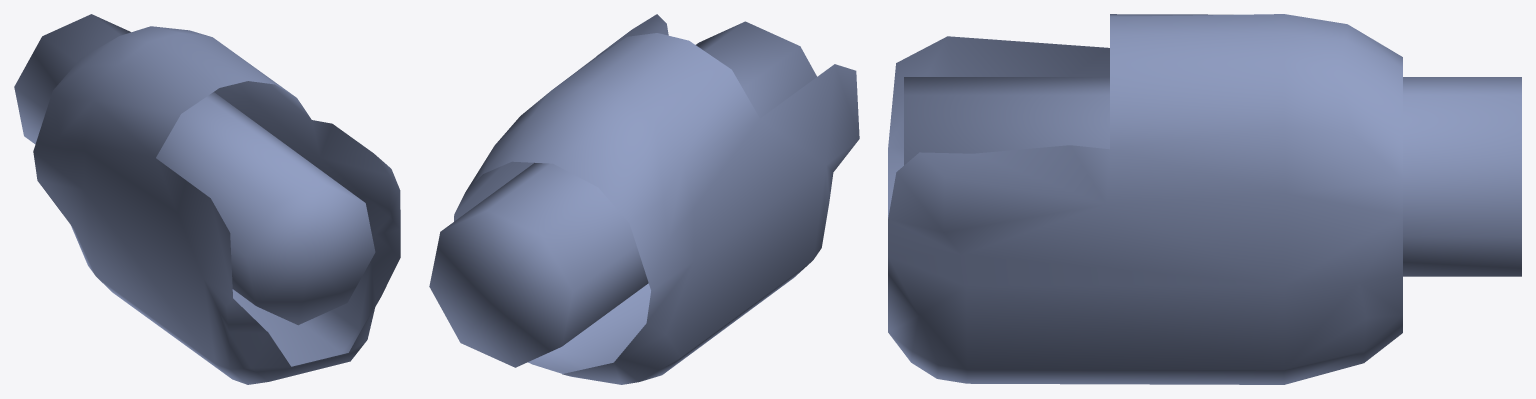
The model's file is icub_simple_collision_l_arm.dae.
3 renders of one model, left to right at view 1: azimuth 30°, elevation 25°; view 2: azimuth 150°, elevation 25°; view 3: azimuth 270°, elevation 25°, orthographic. The views are drawn at different scales.
Parts seen in each view (by area): view 1: l_arm_mesh; view 2: l_arm_mesh; view 3: l_arm_mesh.
Part boxes in pixels (x1=…): l_arm_mesh: x1=14, y1=14, x2=400, y2=384; l_arm_mesh: x1=429, y1=14, x2=859, y2=384; l_arm_mesh: x1=888, y1=14, x2=1521, y2=384.
Size of the model in its own units: 0.0712 by 0.0911 by 0.16.
